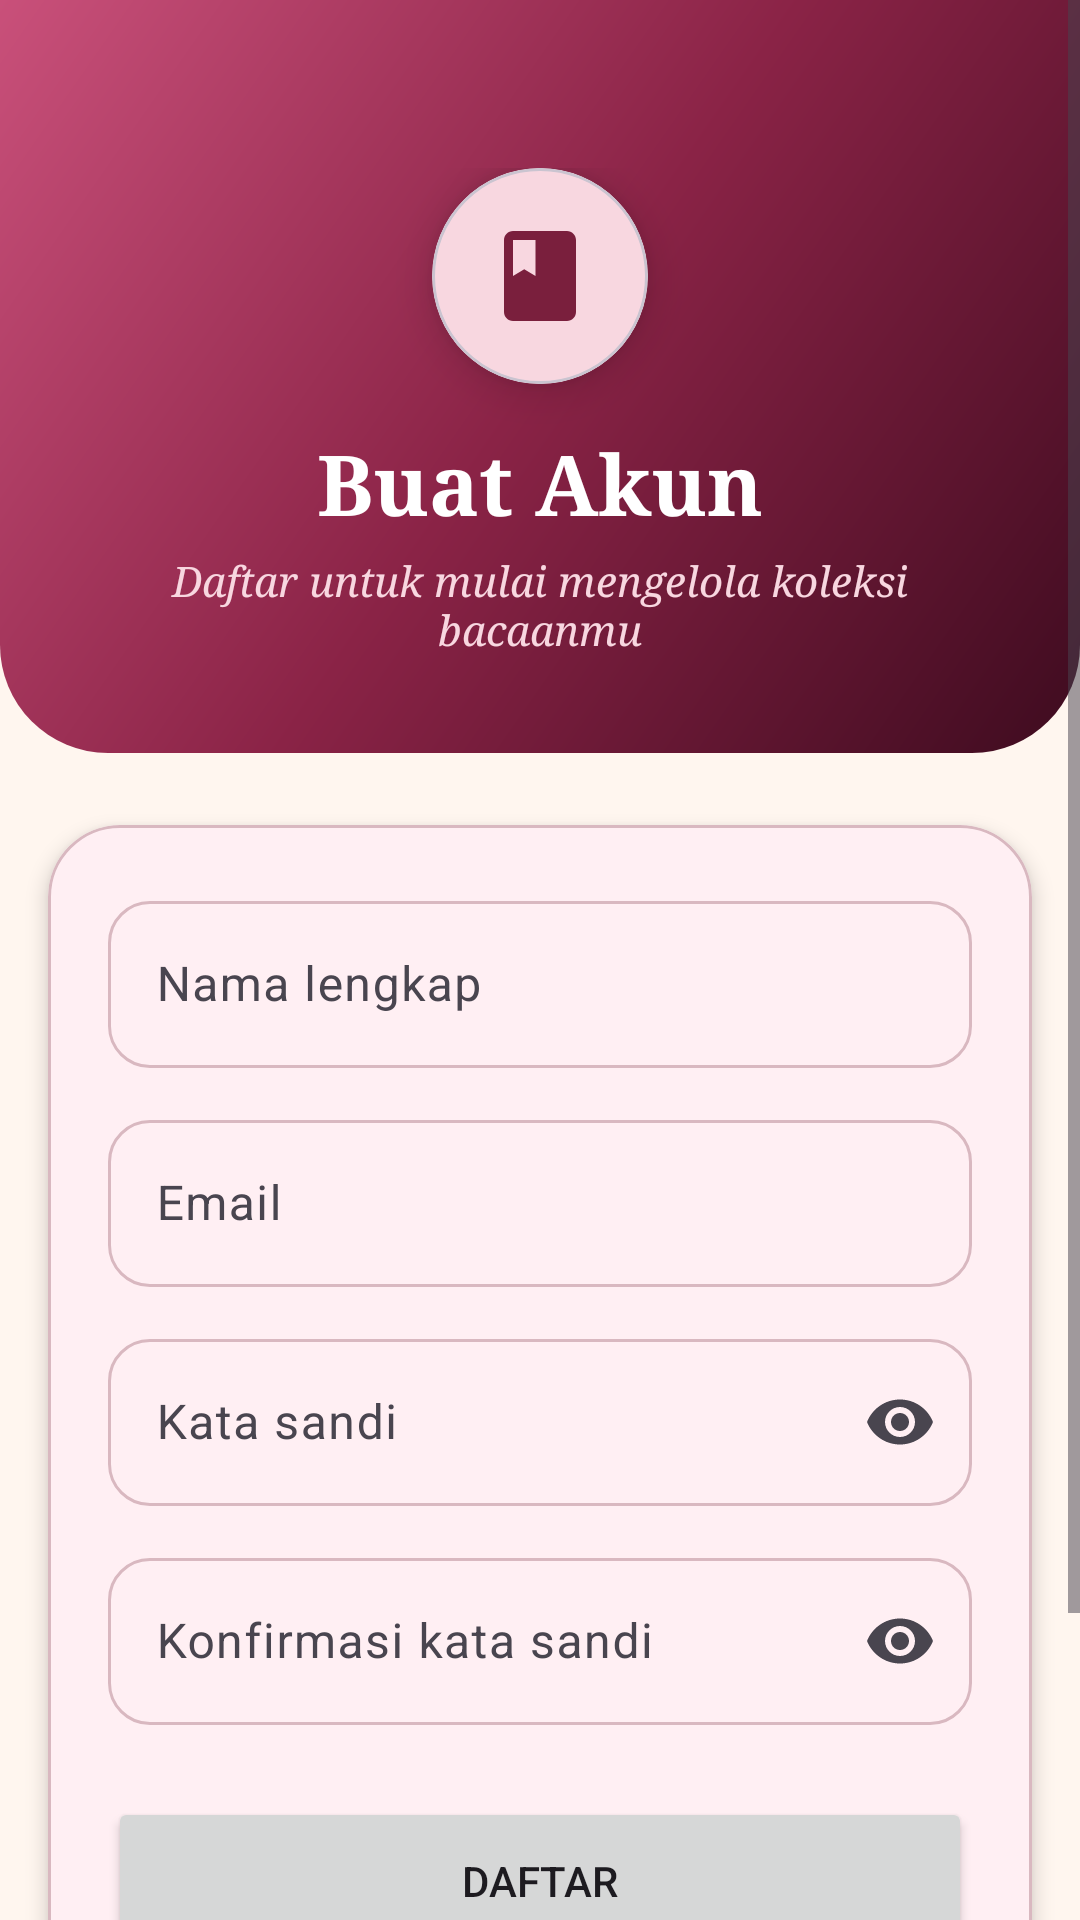

Point at icon controls on the screen. Image size 1080 × 1920, points as (x=x, y=y).
book: (x=540, y=276)
